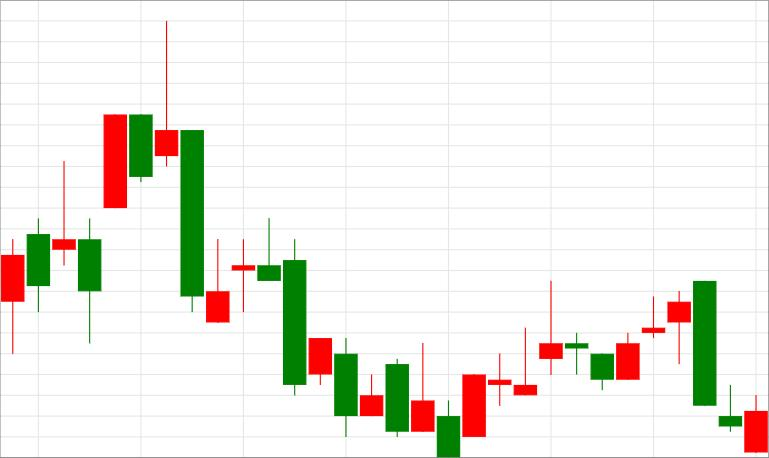bearish_engulfing_fall: (591, 281, 717, 406)
inverse_hammer_rise: (258, 218, 434, 437)
shooting_star_fall: (0, 22, 178, 354)
